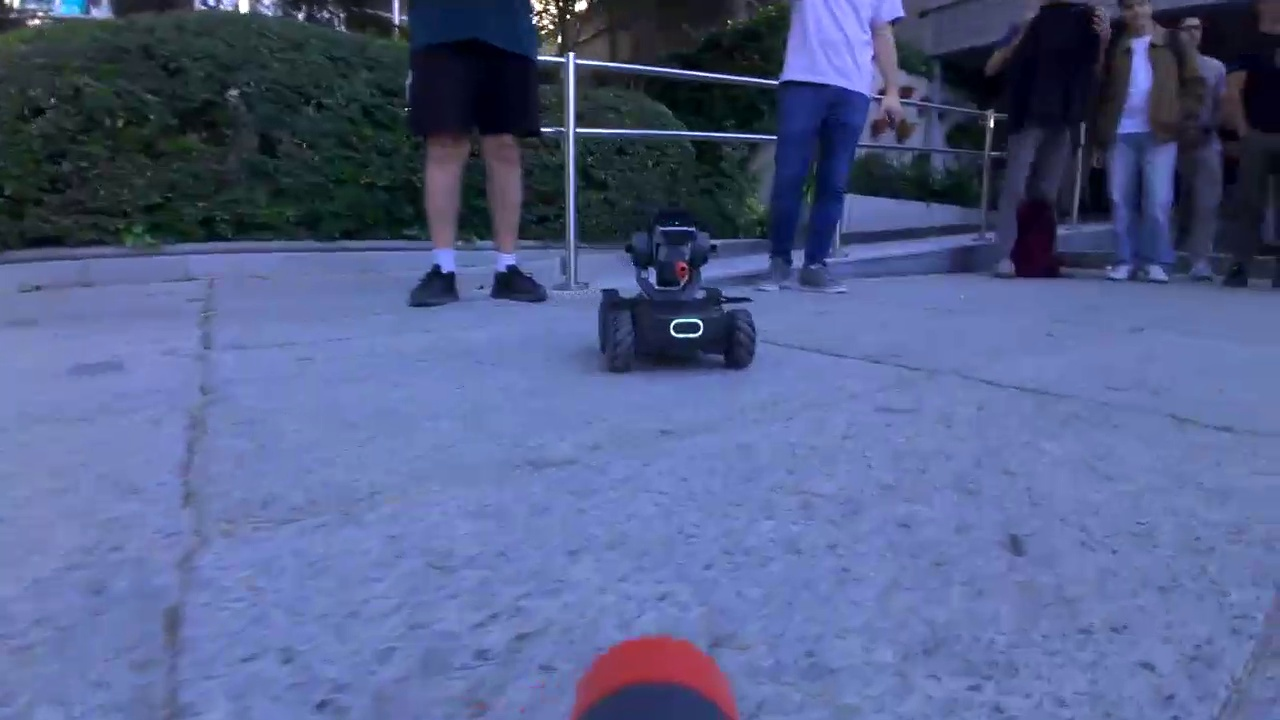robot: (581, 217, 770, 376)
